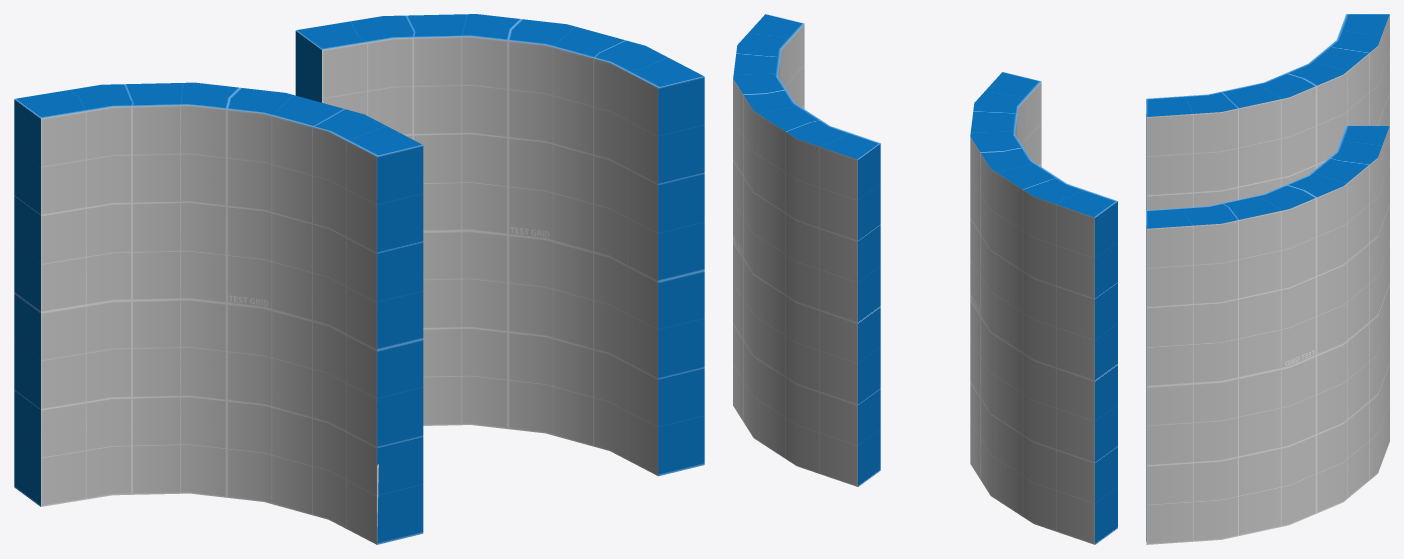
The model's file is Fragged Objects Model +1.fbx.
The picture shows the model from 3 angles, left to right: view 1: azimuth 30°, elevation 25°; view 2: azimuth 150°, elevation 25°; view 3: azimuth 270°, elevation 25°; orthographic projection. The views are drawn at different scales.
Visible parts, largest first — view 1: WallCorner, WallCorner_20, WallCorner_22, WallCorner_31, WallCorner_21, WallCorner_13, WallCorner_10, WallCorner_11, WallCorner_24, WallCorner_19, WallCorner_18, WallCorner_34 (+16 smaller); view 2: WallCorner, WallCorner_20, WallCorner_15, WallCorner_19, WallCorner_21, WallCorner_3, WallCorner_22, WallCorner_18, WallCorner_14, WallCorner_9, WallCorner_5, WallCorner_6 (+8 smaller); view 3: WallCorner, WallCorner_30, WallCorner_32, WallCorner_9, WallCorner_18, WallCorner_21, WallCorner_33, WallCorner_29, WallCorner_6, WallCorner_28, WallCorner_10, WallCorner_20.
Part boxes in pixels (box(x1,y1,x2,y2)): WallCorner: box(295, 14, 704, 476); WallCorner_20: box(14, 144, 103, 314); WallCorner_22: box(14, 306, 121, 439); WallCorner_31: box(327, 279, 423, 449); WallCorner_21: box(14, 85, 134, 193); WallCorner_13: box(211, 209, 330, 329); WallCorner_10: box(211, 97, 320, 231); WallCorner_11: box(211, 307, 323, 430); WallCorner_24: box(314, 439, 423, 544); WallCorner_19: box(76, 288, 199, 401); WallCorner_18: box(101, 83, 211, 229); WallCorner_34: box(201, 407, 305, 508); WallCorner: box(733, 14, 880, 486); WallCorner_20: box(1040, 226, 1117, 394); WallCorner_15: box(1018, 452, 1117, 544); WallCorner_19: box(995, 332, 1077, 456); WallCorner_21: box(1035, 178, 1117, 264); WallCorner_3: box(976, 373, 1032, 504); WallCorner_22: box(1051, 366, 1117, 471); WallCorner_18: box(1000, 167, 1050, 279); WallCorner_14: box(1012, 250, 1055, 365); WallCorner_9: box(973, 150, 1029, 248); WallCorner_5: box(977, 246, 1013, 335); WallCorner_6: box(985, 72, 1041, 144); WallCorner: box(1146, 125, 1389, 544); WallCorner_30: box(1191, 84, 1299, 178); WallCorner_32: box(1146, 117, 1222, 210); WallCorner_9: box(1297, 60, 1359, 177); WallCorner_18: box(1322, 45, 1380, 125); WallCorner_21: box(1330, 14, 1389, 64); WallCorner_33: box(1237, 162, 1302, 199); WallCorner_29: box(1293, 69, 1349, 117); WallCorner_6: box(1146, 91, 1223, 119); WallCorner_28: box(1179, 174, 1238, 208); WallCorner_10: box(1256, 72, 1301, 162); WallCorner_20: box(1379, 51, 1389, 125).
Bounding box in the file's own units: 583 × 400 × 279.
